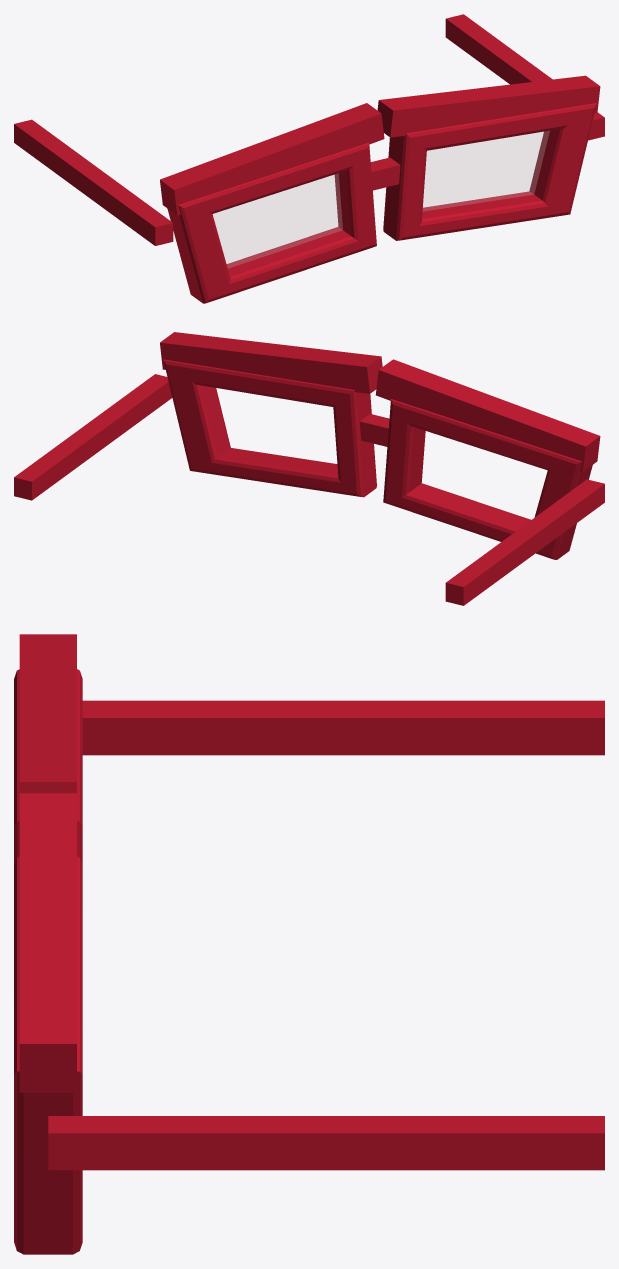
File: gl_eqko0.glb
3 renders of one model, top to bottom at view 1: azimuth 30°, elevation 25°; view 2: azimuth 150°, elevation 25°; view 3: azimuth 270°, elevation 25°, orthographic. The views are drawn at different scales.
Size of the model in its own units: 1.93 by 0.6041 by 1.11.
